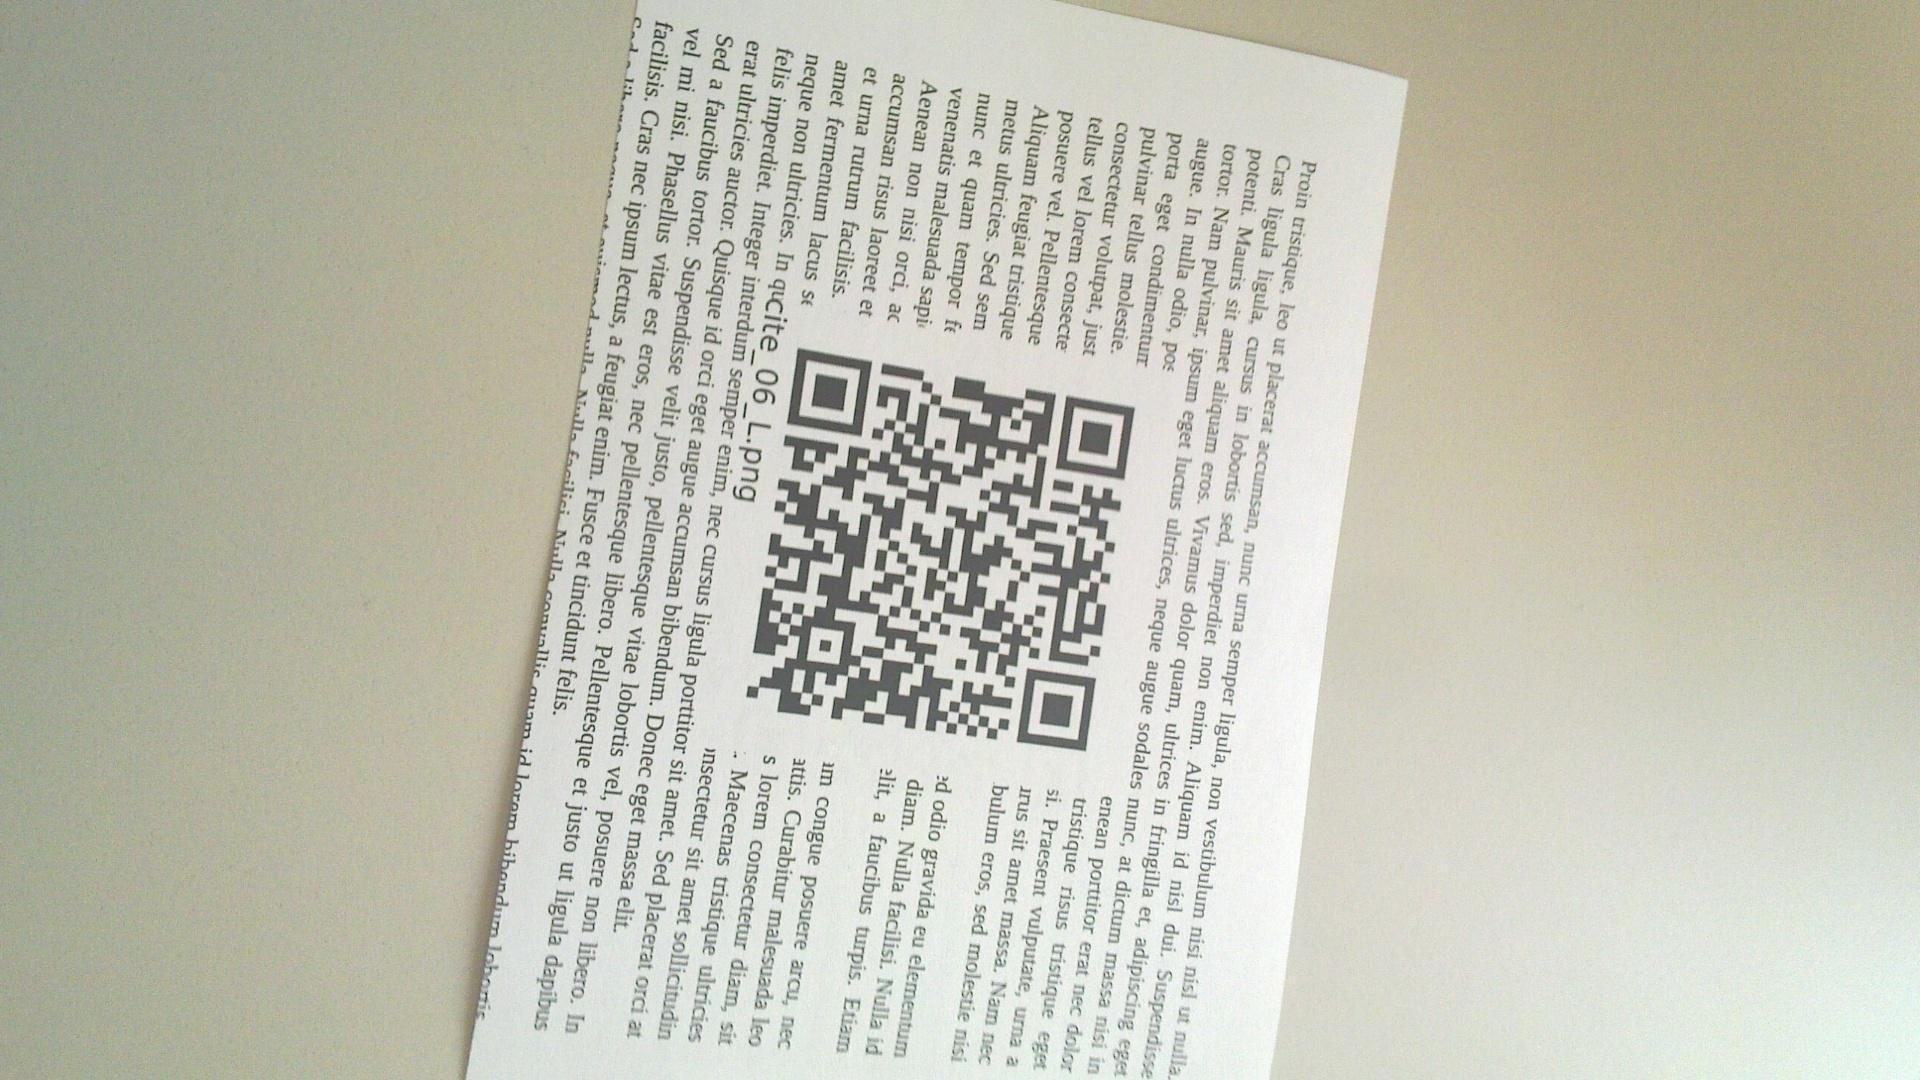qr_code: (745, 348, 1135, 753)
